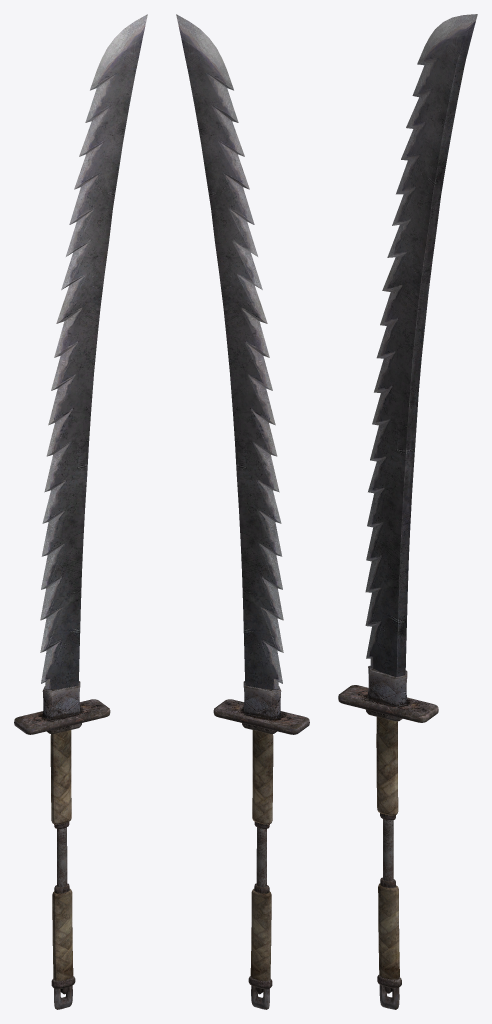
Rendered from bs_swo003.obj.
3 views of the same model, side by side, from view 1: azimuth 30°, elevation 25°; view 2: azimuth 150°, elevation 25°; view 3: azimuth 330°, elevation 25° (orthographic). The views are drawn at different scales.
Parts seen in each view (by area): view 1: bs_swo003_000_LOD_1; view 2: bs_swo003_000_LOD_1; view 3: bs_swo003_000_LOD_1.
Part boxes in pixels (x1,y1,x2,y2): bs_swo003_000_LOD_1: [14, 14, 147, 1009]; bs_swo003_000_LOD_1: [176, 14, 309, 1009]; bs_swo003_000_LOD_1: [338, 14, 477, 1009].
Size of the model in its own units: 41.1 by 299 by 8.86.
